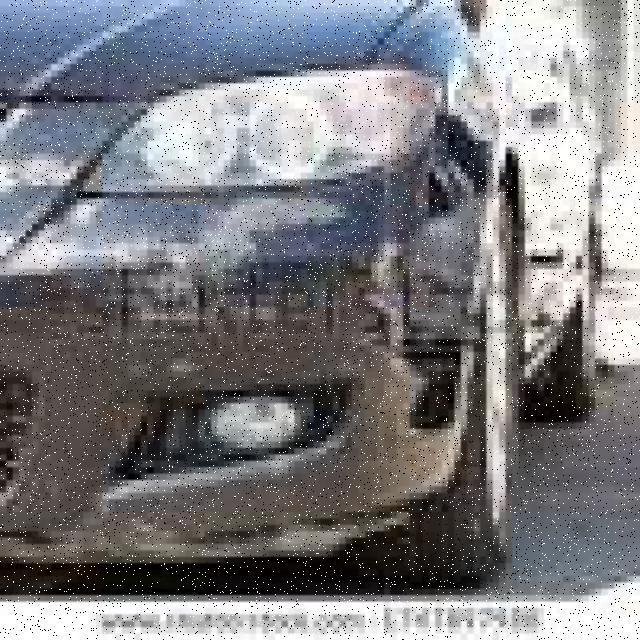front-bumper-dent: (0, 153, 499, 538)
